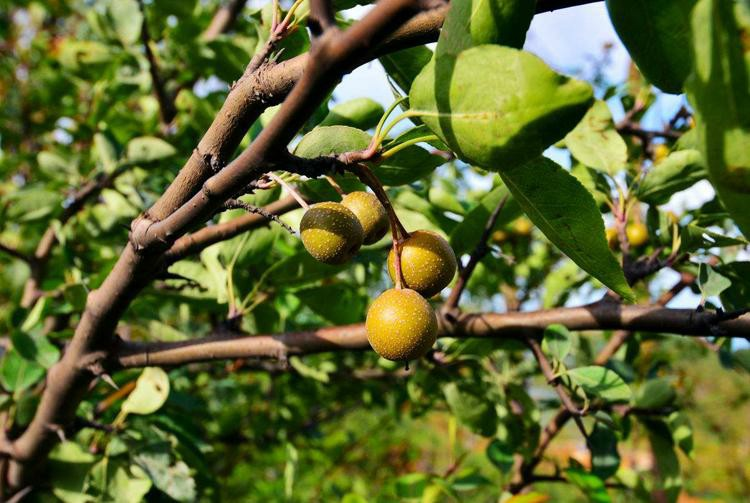pear: (367, 288, 438, 364), (388, 231, 454, 298), (298, 203, 365, 265), (342, 190, 392, 240)
